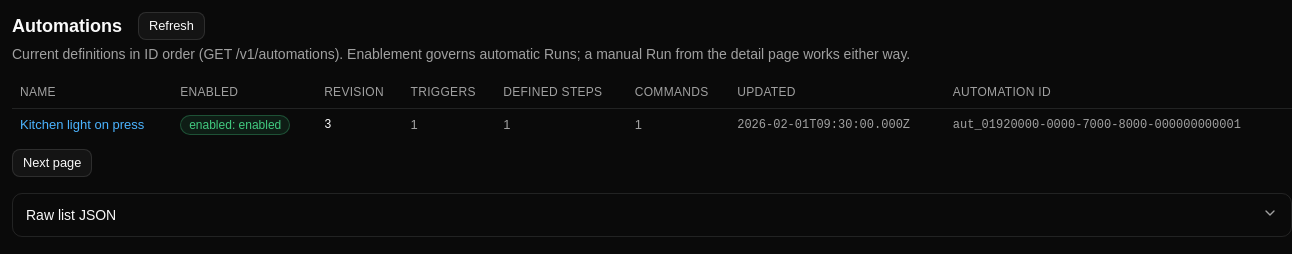
Scenario: AutomationsPage › pages the ID-ascending keyset with an encoded cursor
Expected: the link "Kitchen light on press" is shown, x1=20 y1=117 x2=144 y2=132
Click the button "Next page" at (52, 162), box x1=12 y1=148 x2=92 y2=176
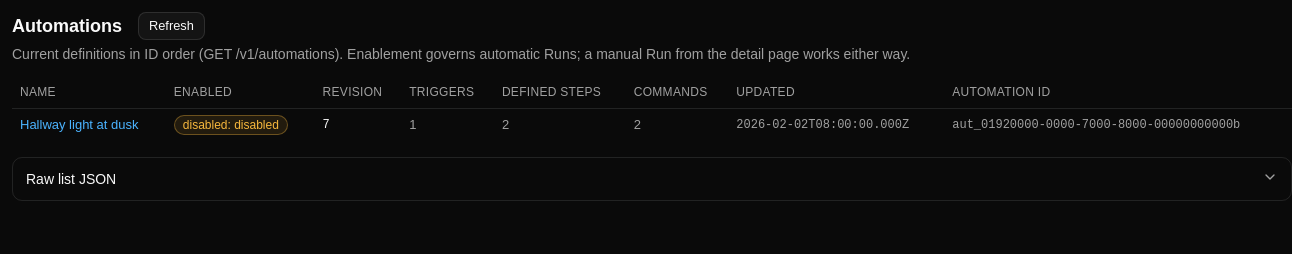
Expected: the link "Hallway light at dusk" is shown, x1=20 y1=117 x2=138 y2=132
Expected: the button "Next page" is gone
